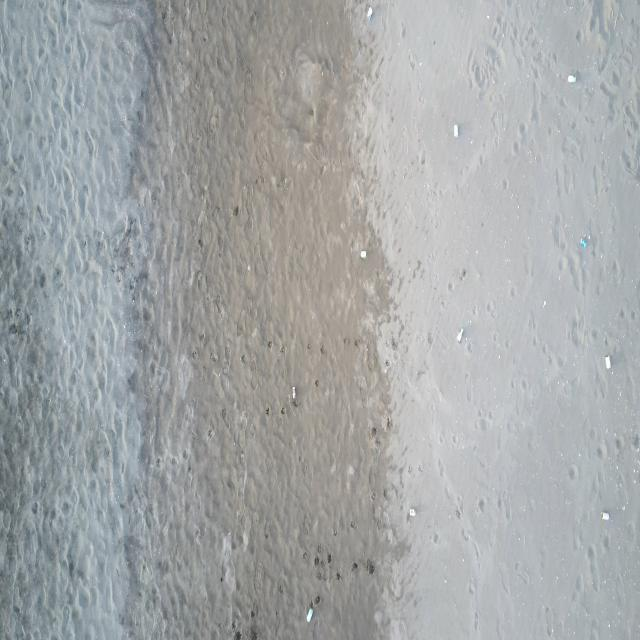tin-and-aluminum-cans: (305, 608, 314, 625), (456, 325, 464, 344), (604, 354, 612, 372), (600, 511, 610, 522), (566, 74, 577, 84), (409, 506, 417, 519), (366, 6, 373, 20), (291, 385, 297, 400), (359, 250, 367, 260), (580, 237, 587, 248), (454, 124, 458, 139)
